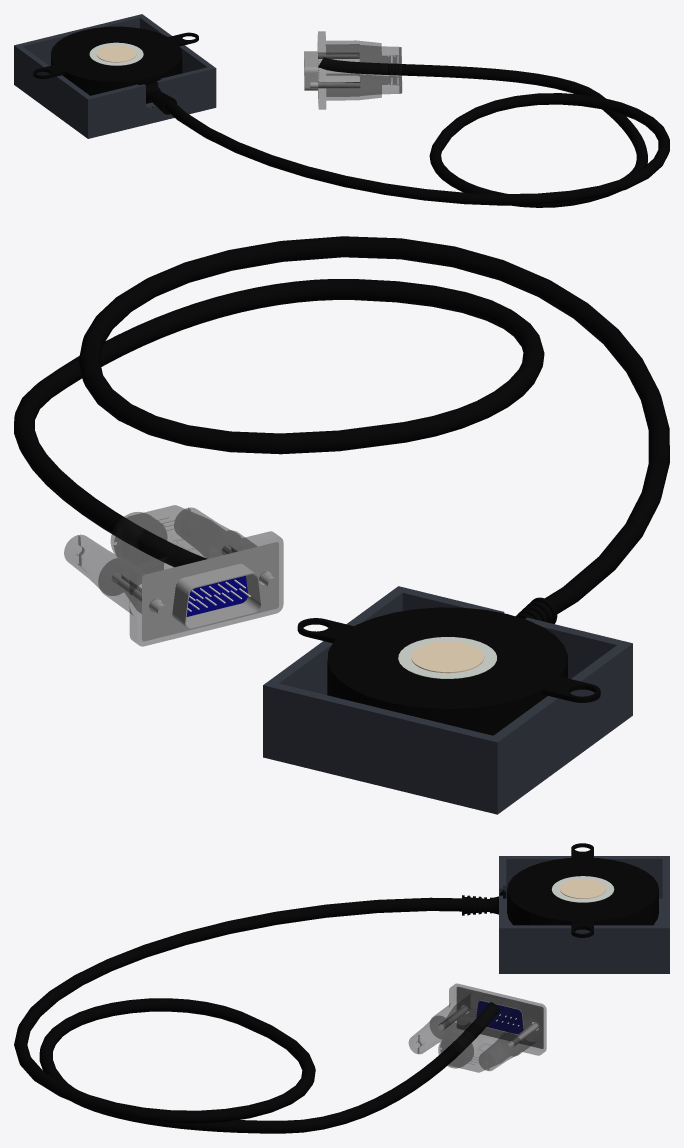
The model's file is External Alarm Buzzer.glb.
3 renders of one model, top to bottom at view 1: azimuth 30°, elevation 25°; view 2: azimuth 150°, elevation 25°; view 3: azimuth 270°, elevation 25°, orthographic. The views are drawn at different scales.
Visible parts, largest first — view 1: Object_13, ext buzzer Cover v1.1, Cylinder, mesh_0.017, mesh_1, mesh_1.003, Cylinder.004, mesh_0.001, Cylinder.002, Object_10, mesh_1.002; view 2: Object_13, ext buzzer Cover v1.1, Cylinder, mesh_0.017, mesh_0.003, mesh_0.001, mesh_1.003, Cylinder.004, mesh_1, Cylinder.002, mesh_0.002, Cylinder.003; view 3: Object_13, ext buzzer Cover v1.1, Cylinder, mesh_0.017, mesh_0.003, mesh_1.003, mesh_1, mesh_0.002, Cylinder.004, Object_10, Cylinder.002.
Boxes of the visible parts, box(x1,y1,x2,y2) form: Object_13: box(159, 57, 669, 207); ext buzzer Cover v1.1: box(14, 14, 216, 138); Cylinder: box(51, 26, 182, 95); mesh_0.017: box(318, 31, 401, 109); mesh_1: box(353, 74, 401, 95); mesh_1.003: box(360, 45, 401, 63); Cylinder.004: box(96, 45, 136, 62); mesh_0.001: box(304, 51, 317, 90); Cylinder.002: box(89, 42, 143, 65); Object_10: box(146, 83, 176, 114); mesh_1.002: box(310, 82, 360, 88); Object_13: box(14, 236, 669, 614); ext buzzer Cover v1.1: box(263, 586, 632, 814); Cylinder: box(327, 607, 567, 735); mesh_0.017: box(98, 505, 283, 646); mesh_0.003: box(142, 542, 278, 641); mesh_0.001: box(172, 563, 261, 629); mesh_1.003: box(64, 535, 131, 595); Cylinder.004: box(411, 641, 484, 673); mesh_1: box(174, 507, 241, 558); Cylinder.002: box(398, 637, 496, 678); mesh_0.002: box(186, 575, 247, 616); Cylinder.003: box(541, 676, 600, 702); Object_13: box(14, 897, 499, 1133); ext buzzer Cover v1.1: box(499, 856, 669, 973); Cylinder: box(507, 857, 658, 925); mesh_0.017: box(430, 983, 546, 1072); mesh_0.003: box(456, 986, 543, 1048); mesh_1.003: box(479, 1032, 521, 1070); mesh_1: box(409, 1016, 445, 1053); mesh_0.002: box(476, 1001, 523, 1034); Cylinder.004: box(560, 879, 605, 898); Object_10: box(462, 889, 505, 915); Cylinder.002: box(551, 876, 614, 902).
Size of the model in its own units: 1.84 by 0.2082 by 2.05.
